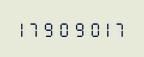nine: (45, 20, 58, 37), (73, 20, 86, 37)
one: (17, 20, 30, 37), (101, 20, 114, 37)
seven: (31, 20, 44, 37), (115, 20, 128, 37)
zero: (59, 20, 72, 37), (87, 20, 100, 37)
